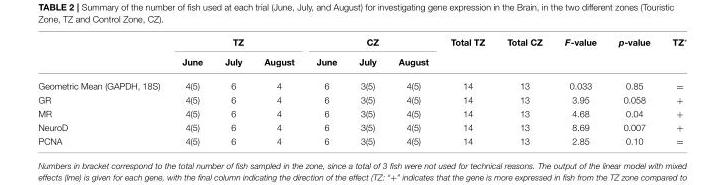table: (37, 37, 686, 145)
table column: (37, 37, 170, 145), (438, 37, 495, 145), (495, 37, 552, 145), (552, 37, 606, 145), (606, 37, 660, 145), (252, 37, 304, 145), (386, 37, 438, 145), (170, 37, 213, 145), (304, 37, 347, 145), (213, 37, 252, 145), (347, 37, 386, 145), (660, 37, 686, 145)
table column header: (37, 37, 686, 74)
table row: (37, 52, 686, 74), (37, 74, 686, 92), (37, 37, 686, 52), (37, 92, 686, 106), (37, 106, 686, 120), (37, 120, 686, 134), (37, 134, 686, 145)
table spanning cell: (438, 37, 495, 74), (495, 37, 552, 74), (170, 37, 304, 52), (304, 37, 438, 52), (552, 37, 606, 74), (606, 37, 660, 74), (660, 37, 686, 74)
